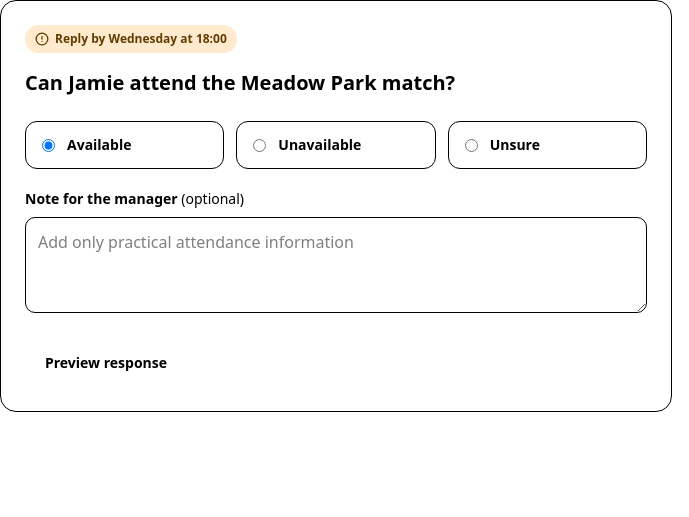
parent core football screens › submits an explicit non-persistent availability preview
Click the radio button labelled "Unavailable" at (260, 145), box [253, 138, 266, 152]
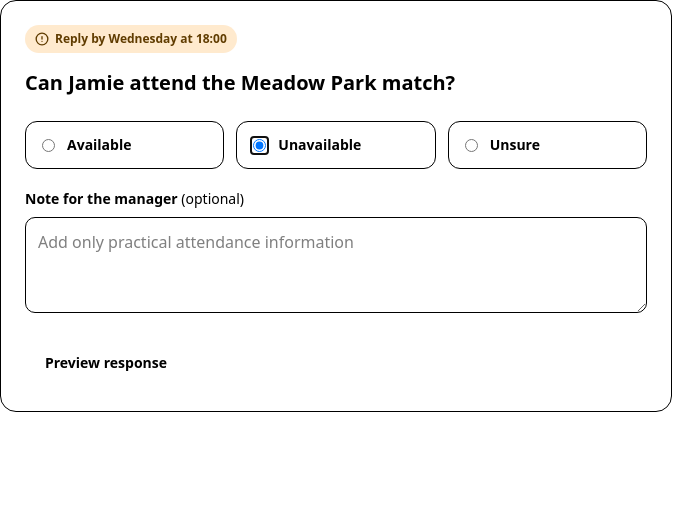
Click the button "Preview response" at (106, 363), box [25, 339, 187, 387]
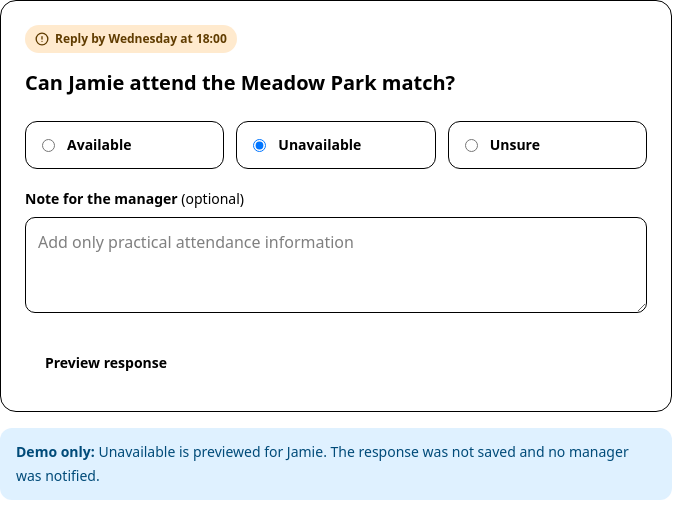
Expected: the message shows "Demo only", [16, 442, 95, 461]
Expected: the message shows "not saved", [16, 442, 629, 485]
